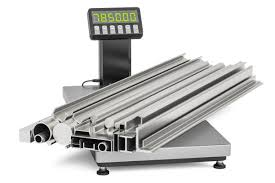Industrial Scale: (62, 5, 233, 174)
